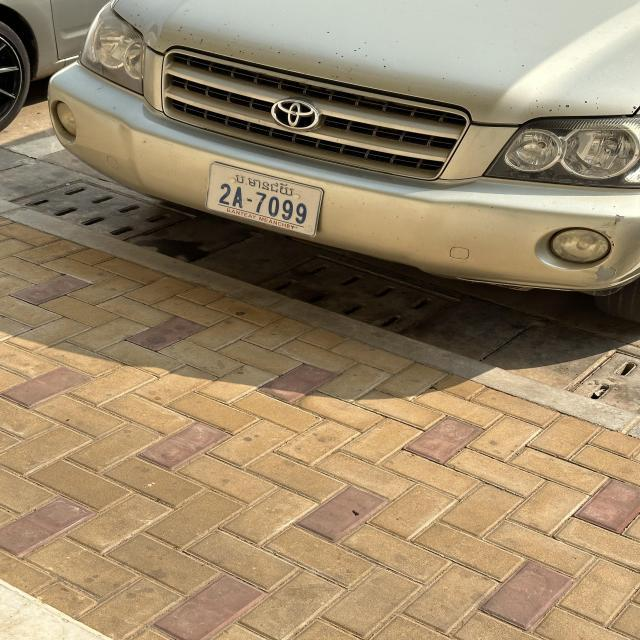Banteay_Meanchey: (233, 174, 294, 196)
